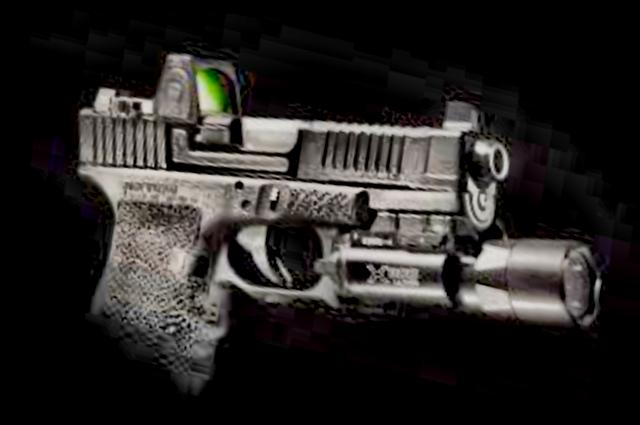pistol: (22, 1, 636, 425)
